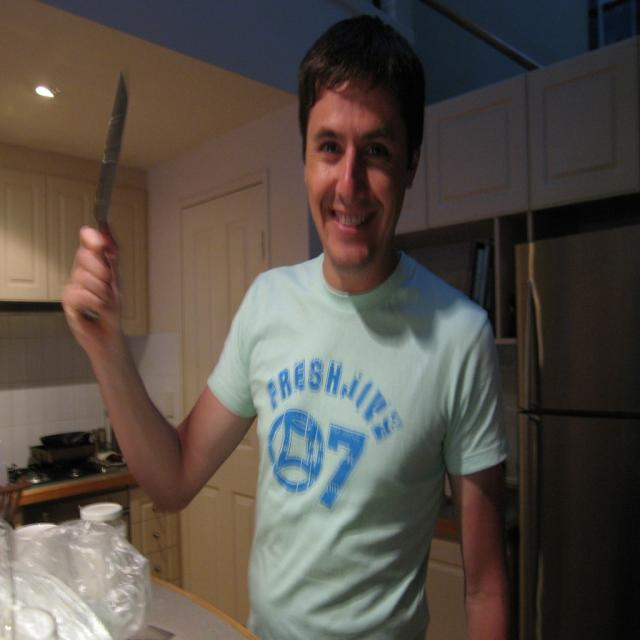no_helmet: (285, 86, 439, 299)
